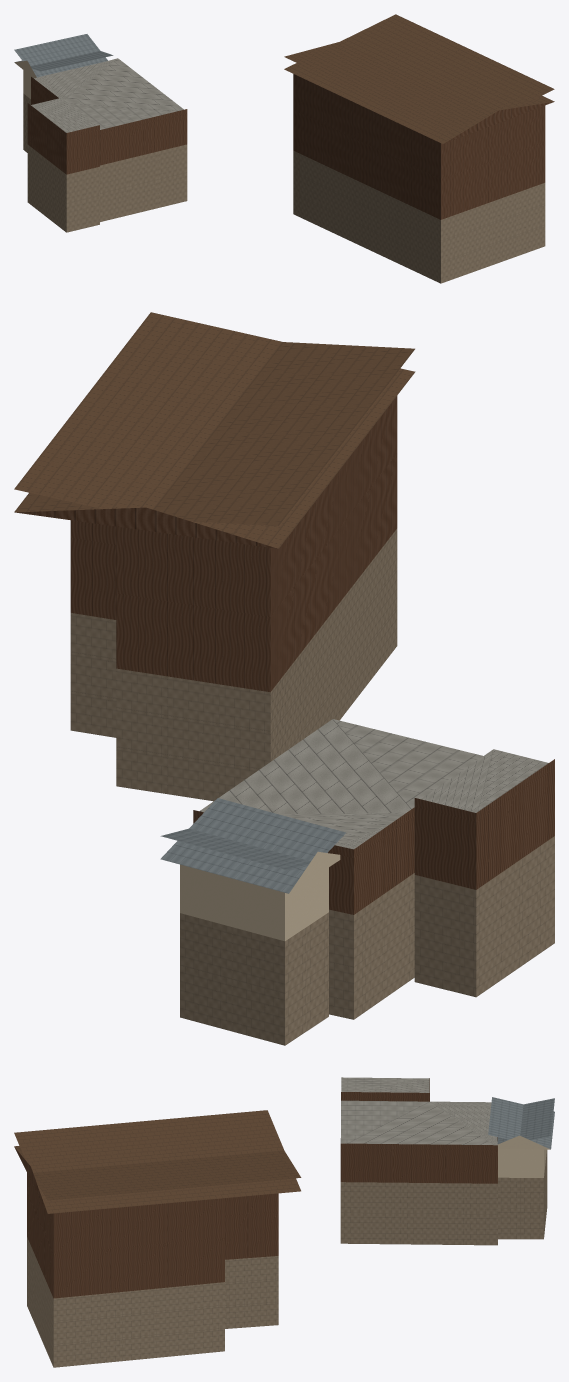
File: bld_c32_-38_455.gltf
3 views of the same model, one above another, from view 1: azimuth 30°, elevation 25°; view 2: azimuth 150°, elevation 25°; view 3: azimuth 270°, elevation 25° (orthographic). The views are drawn at different scales.
Parts seen in each view (by area): view 1: bld_c32_-38_455; view 2: bld_c32_-38_455; view 3: bld_c32_-38_455.
Part boxes in pixels (x1=…): bld_c32_-38_455: x1=14, y1=14, x2=554, y2=283; bld_c32_-38_455: x1=14, y1=312, x2=554, y2=1045; bld_c32_-38_455: x1=14, y1=1077, x2=554, y2=1367.
Size of the model in its own units: 29.63 by 12.6 by 36.11.
Materials: 8 (8 with a texture image).
